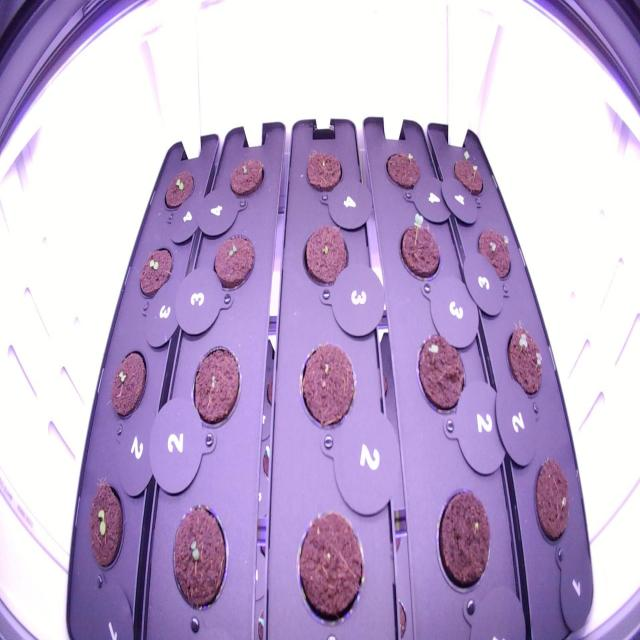germination: (166, 496, 235, 621), (412, 325, 472, 422), (188, 337, 245, 433), (84, 473, 132, 581), (395, 204, 444, 290), (502, 319, 549, 406), (208, 225, 260, 300), (106, 342, 152, 425), (474, 220, 516, 288), (133, 238, 176, 302), (449, 138, 488, 208), (381, 143, 427, 201), (225, 151, 268, 202), (160, 158, 198, 215)
pod: (288, 506, 370, 630), (430, 478, 494, 602), (296, 331, 361, 440), (529, 452, 577, 555), (298, 219, 354, 293), (299, 144, 346, 198)
